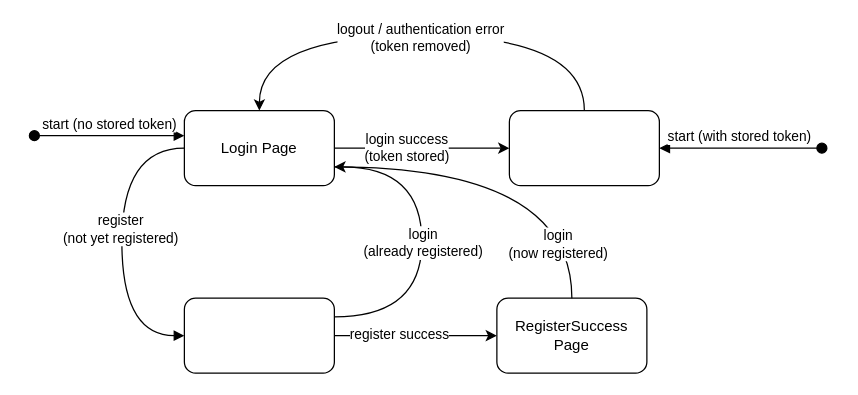
Some shapes in this 858 by 395 pixel diagram are drawn without their labels. The centre of each missing label's shape, as x and y in pixels:
"HomePage" belongs at point (583, 147).
"RegisterPage" belongs at point (258, 335).
